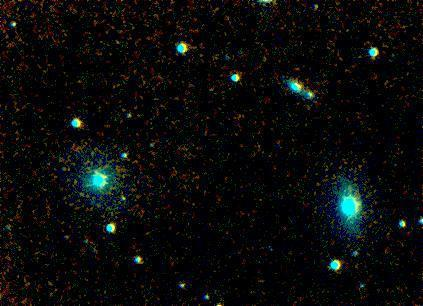star: (343, 190, 373, 220)
